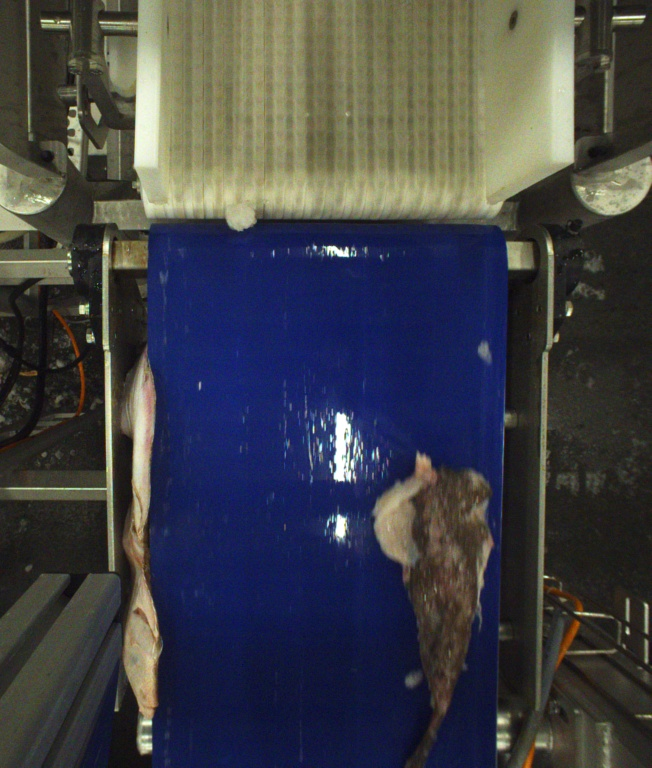ANF: (372, 453, 494, 768)
